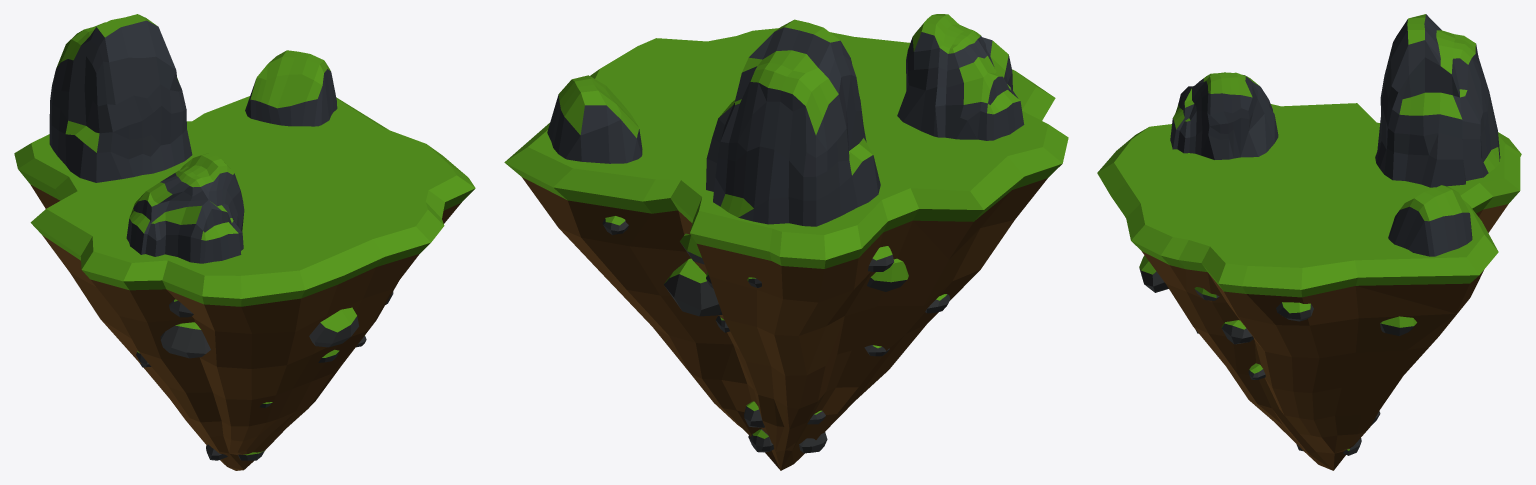
File: JungleIsland.fbx
3 renders of one model, left to right at view 1: azimuth 30°, elevation 25°; view 2: azimuth 150°, elevation 25°; view 3: azimuth 270°, elevation 25°, orthographic. The views are drawn at different scales.
Visible parts, largest first — view 1: JungleIsland, JungleMountain, JungleMountain2, JungleMountain2.001; view 2: JungleIsland, JungleMountain, JungleMountain2, JungleMountain2.001; view 3: JungleIsland, JungleMountain, JungleMountain2, JungleMountain2.001.
Part boxes in pixels (<box>): JungleIsland: <box>14,96,475,470</box>; JungleMountain: <box>49,14,192,182</box>; JungleMountain2: <box>126,152,244,263</box>; JungleMountain2.001: <box>245,50,337,126</box>; JungleIsland: <box>504,28,1068,470</box>; JungleMountain: <box>706,19,880,226</box>; JungleMountain2: <box>897,14,1024,140</box>; JungleMountain2.001: <box>547,75,642,163</box>; JungleIsland: <box>1097,103,1521,470</box>; JungleMountain: <box>1375,14,1500,187</box>; JungleMountain2: <box>1170,72,1278,159</box>; JungleMountain2.001: <box>1388,185,1472,256</box>.
Size of the model in its own units: 5181 by 5515 by 5085.
